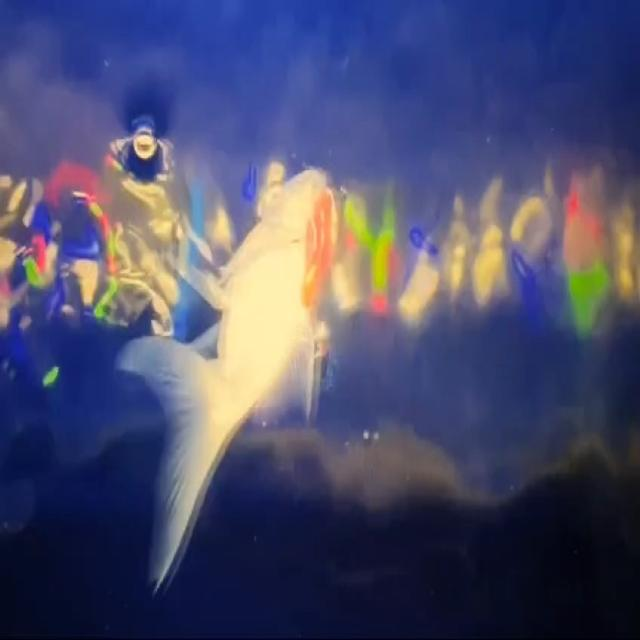fish: (117, 155, 341, 597)
